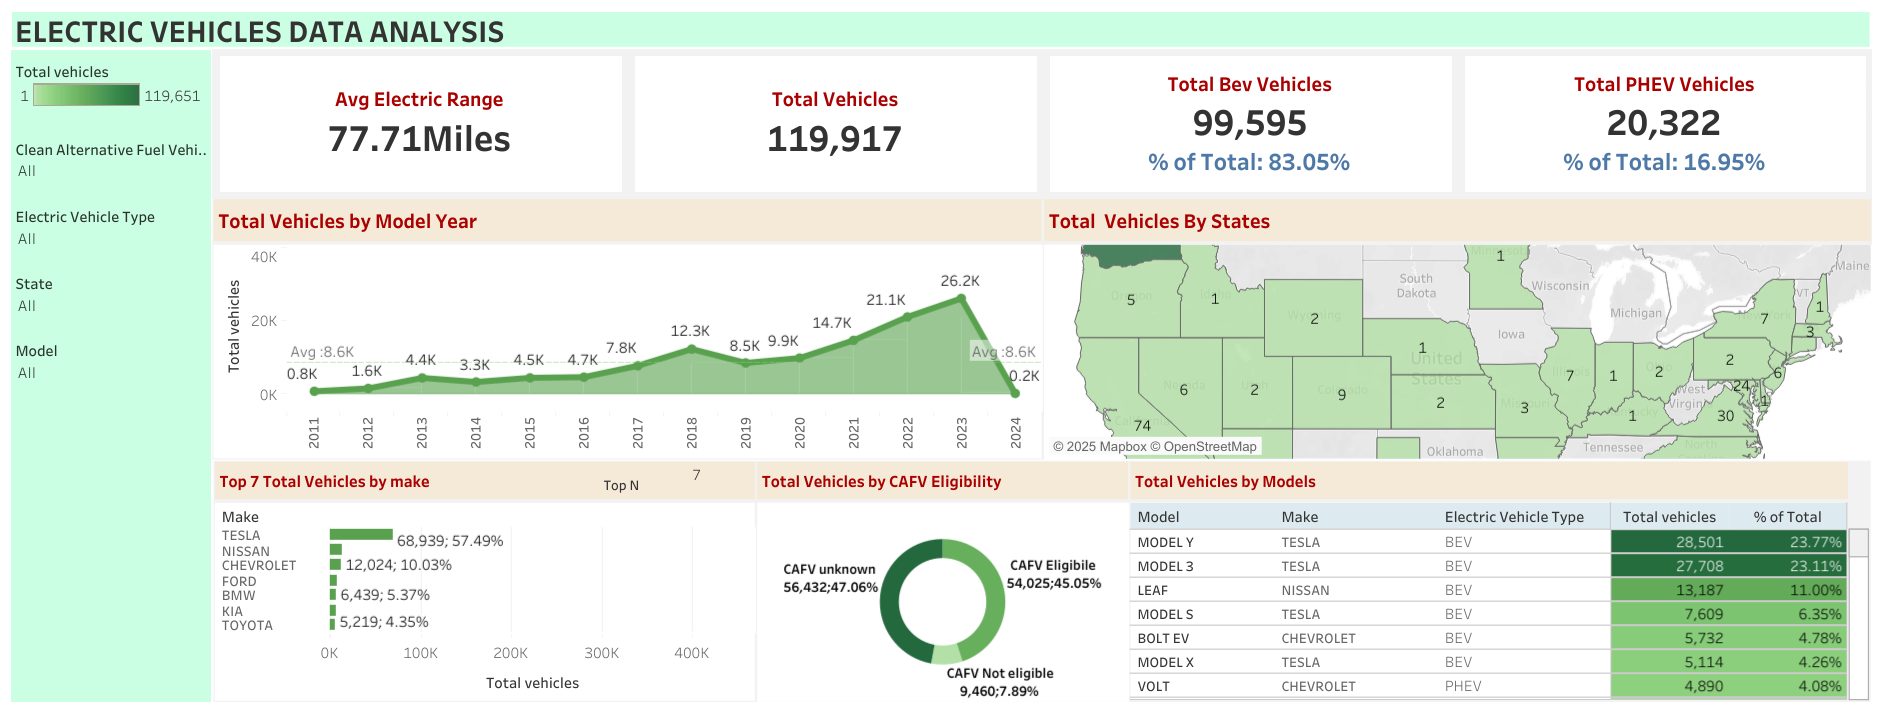

This screenshot's page, from the dashboard's own definition file:
{"tool":"tableau","page":{"name":"ELECTRIC VEHICLES DATA ANALYSIS","canvas":[1000,1000],"units":"permille","ordinal":0},"visuals":[{"type":"title","box":[4.3,10.7,991.4,55.4]},{"type":"worksheet","title":"Avg electric range","mark":"Automatic","box":[112.4,65.6,221.1,210.2]},{"type":"worksheet","title":"Total Vehicles","mark":"Automatic","box":[333.5,65.6,221.1,210.2]},{"type":"worksheet","title":"Total Bev Vehicles","mark":"Automatic","box":[554.6,65.6,220.6,210.2]},{"type":"worksheet","title":"Total PHEV Vehicles ","mark":"Automatic","box":[775.1,65.6,220.5,210.2]},{"type":"legend","title":"Total  Vehicles By States","param":"[federated.1d33uuo0xnt27f1fcsnih1eectb9].[usr:Calculation_317785274889048064:qk]","box":[4.9,67.5,106.8,108.4]},{"type":"filter","title":"Total Vehicles by Model Year","param":"[federated.1d33uuo0xnt27f1fcsnih1eectb9].[none:Clean Alternative Fuel Vehicle (C","box":[4.9,175.9,106.8,93.7]},{"type":"filter","title":"Total Vehicles by Model Year","param":"[federated.1d33uuo0xnt27f1fcsnih1eectb9].[none:Electric Vehicle Type:nk]","box":[4.9,269.6,106.8,93.7]},{"type":"worksheet","title":"Total Vehicles by Model Year","mark":"Area","rows":["Calculation_317785274889048064","Calculation_317785274889048064"],"cols":["Model Year"],"box":[112.2,276.1,442.1,368.9]},{"type":"worksheet","title":"Total  Vehicles By States","mark":"Multipolygon","box":[554.3,276.1,441.4,368.9]},{"type":"filter","title":"Total Vehicles by Model Year","param":"[federated.1d33uuo0xnt27f1fcsnih1eectb9].[none:State:nk]","box":[4.9,363.3,106.8,93.7]},{"type":"filter","title":"Total Vehicles by Model Year","param":"[federated.1d33uuo0xnt27f1fcsnih1eectb9].[none:Model:nk]","box":[4.9,457,106.8,93.7]},{"type":"worksheet","title":"Top 10 Total Vehicles by make","mark":"Automatic","rows":["Make"],"cols":["Calculation_317785274889048064"],"box":[112.8,646.3,288.8,341.7]},{"type":"worksheet","title":"Total Vehicles by CAFV Eligibility","mark":"Pie","rows":["Calculation_317785275168407562","Calculation_317785275168407562"],"box":[401.5,646.3,168.1,341.7]},{"type":"worksheet","title":"Total Vehicles by Models","mark":"Square","rows":["Model","Make","Electric Vehicle Type"],"box":[569.6,646.3,425.5,341.7]},{"type":"parameter","param":"[Parameters].[Parameter 1]","box":[320.8,650.1,68.5,59]}]}

Visuals, with their boxes on the dashboard's canvas, which has no fixed pixel size, in thousandths of its width and height (x1, y1, x2, y2). These are canvas units, not pixel positions in the 1880x712 screenshot, which may show the page scaled, cropped or inside an application window:
title: (x1=4, y1=11, x2=996, y2=66)
"Avg electric range" worksheet: (x1=112, y1=66, x2=334, y2=276)
"Total Vehicles" worksheet: (x1=334, y1=66, x2=555, y2=276)
"Total Bev Vehicles" worksheet: (x1=555, y1=66, x2=775, y2=276)
"Total PHEV Vehicles " worksheet: (x1=775, y1=66, x2=996, y2=276)
"Total  Vehicles By States" legend: (x1=5, y1=68, x2=112, y2=176)
"Total Vehicles by Model Year" filter: (x1=5, y1=176, x2=112, y2=270)
"Total Vehicles by Model Year" filter: (x1=5, y1=270, x2=112, y2=363)
"Total Vehicles by Model Year" worksheet (Area marks): (x1=112, y1=276, x2=554, y2=645)
"Total  Vehicles By States" worksheet (Multipolygon marks): (x1=554, y1=276, x2=996, y2=645)
"Total Vehicles by Model Year" filter: (x1=5, y1=363, x2=112, y2=457)
"Total Vehicles by Model Year" filter: (x1=5, y1=457, x2=112, y2=551)
"Top 10 Total Vehicles by make" worksheet: (x1=113, y1=646, x2=402, y2=988)
"Total Vehicles by CAFV Eligibility" worksheet (Pie marks): (x1=402, y1=646, x2=570, y2=988)
"Total Vehicles by Models" worksheet (Square marks): (x1=570, y1=646, x2=995, y2=988)
parameter: (x1=321, y1=650, x2=389, y2=709)
